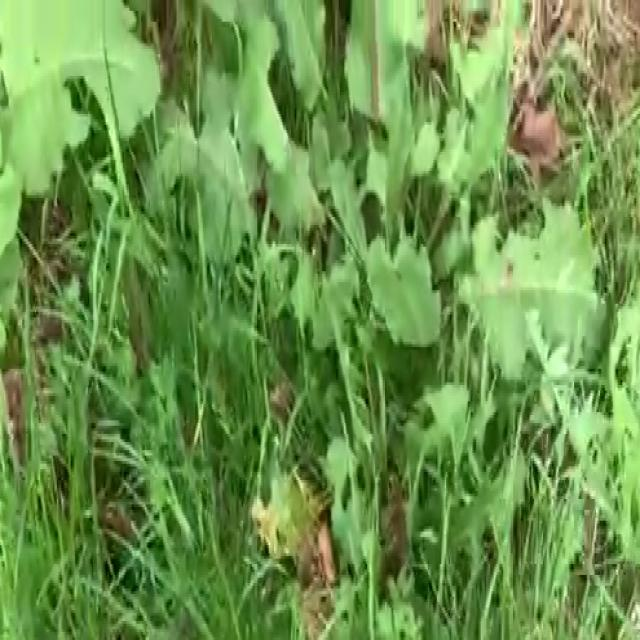organic waste: (180, 0, 601, 553), (0, 0, 173, 287)
